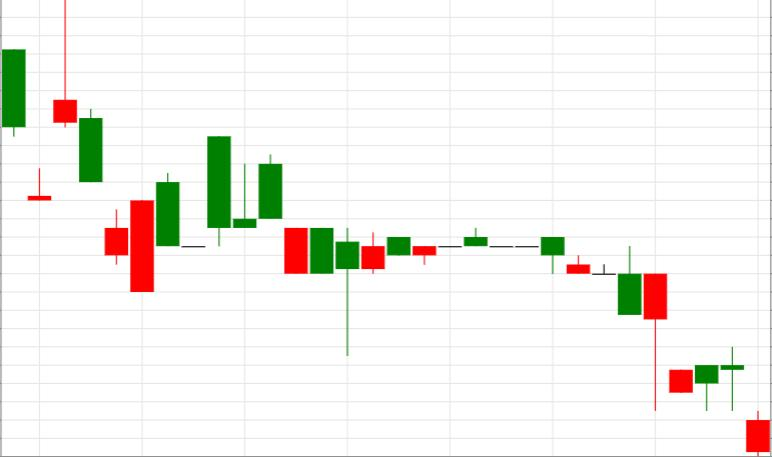hammer_rise: (464, 228, 668, 411)
